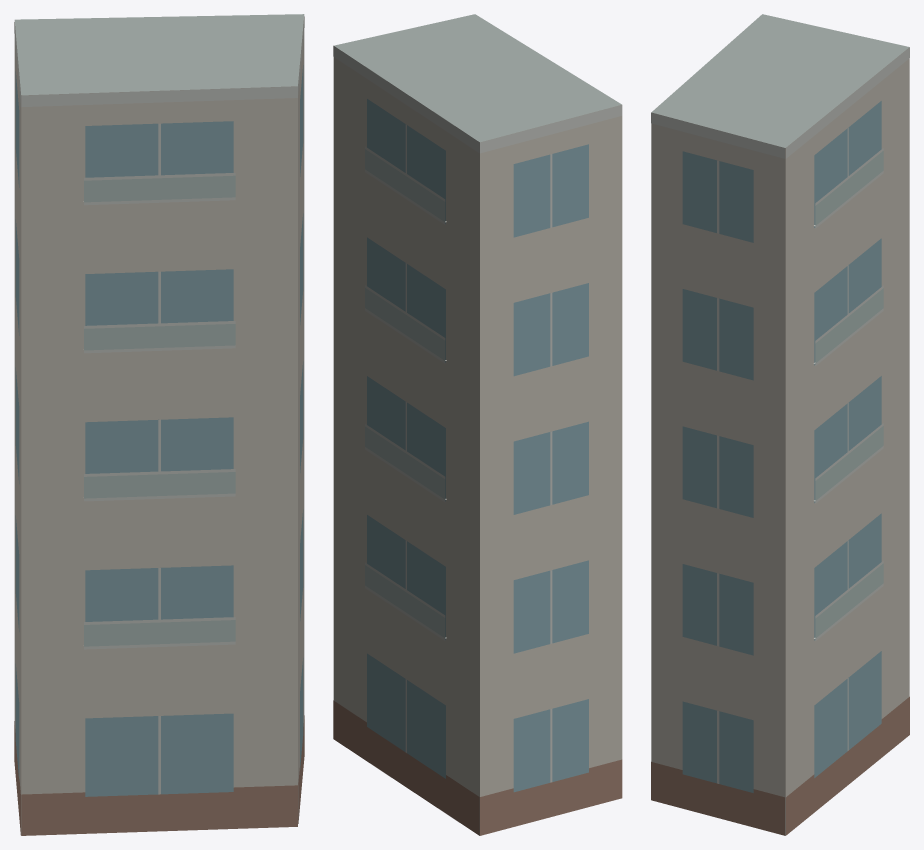
Rendered from survey-upis-33046751.glb.
The picture shows the model from 3 angles, left to right: view 1: azimuth 30°, elevation 25°; view 2: azimuth 150°, elevation 25°; view 3: azimuth 270°, elevation 25°; orthographic projection. The views are drawn at different scales.
Visible parts, largest first — view 1: survey-upis-33046751.tmp; view 2: survey-upis-33046751.tmp; view 3: survey-upis-33046751.tmp.
Part boxes in pixels (left/top/right/bottom): survey-upis-33046751.tmp: left=14, top=14, right=304, bottom=835; survey-upis-33046751.tmp: left=333, top=14, right=622, bottom=835; survey-upis-33046751.tmp: left=651, top=14, right=909, bottom=835.
Bounding box in the file's own units: 6.38 × 15.25 × 5.2.
